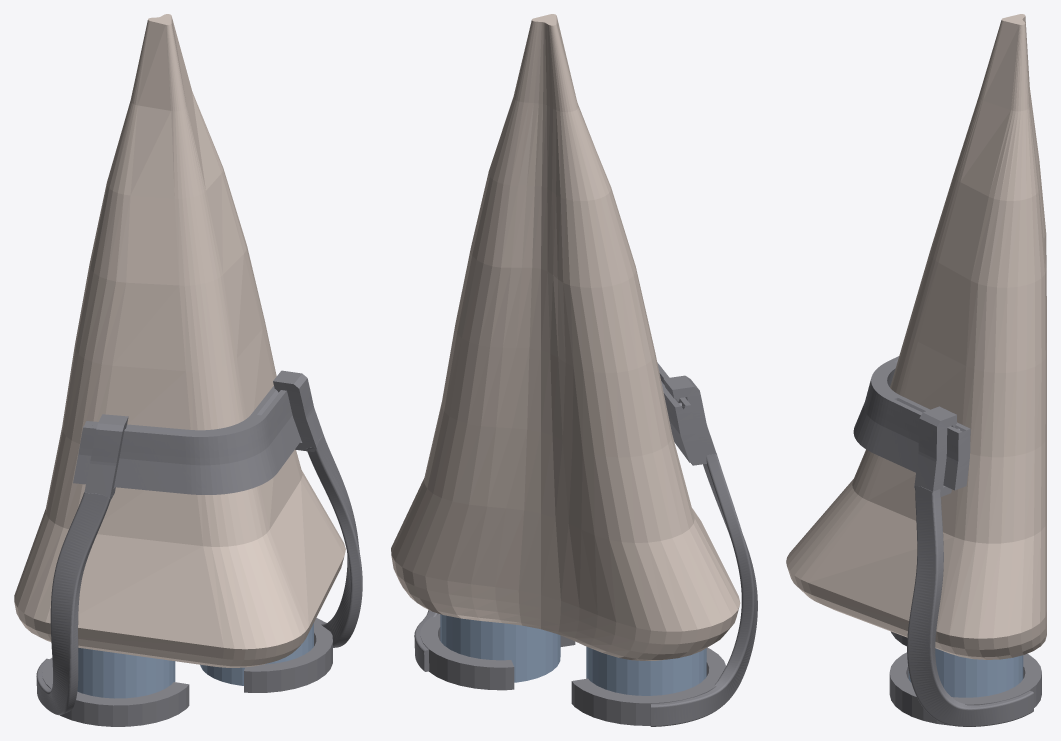
File: candidate_inconspicuous.glb
3 views of the same model, side by side, from view 1: azimuth 30°, elevation 25°; view 2: azimuth 150°, elevation 25°; view 3: azimuth 270°, elevation 25° (orthographic). The views are drawn at different scales.
Parts seen in each view (by area): view 1: body, frame_bridge, frame_leg_left, frame_leg_right, plug_left, plug_right; view 2: body, frame_leg_left, plug_right, plug_left, frame_leg_right, frame_bridge; view 3: body, frame_leg_right, frame_bridge, plug_right.
Boxes of the visible parts, bbox=[...] form: body: bbox=[14, 14, 345, 667]; frame_bridge: bbox=[73, 386, 301, 494]; frame_leg_left: bbox=[36, 414, 189, 726]; frame_leg_right: bbox=[244, 370, 362, 692]; plug_left: bbox=[77, 648, 175, 698]; plug_right: bbox=[200, 623, 313, 685]; body: bbox=[391, 14, 740, 660]; frame_leg_left: bbox=[571, 375, 757, 726]; plug_right: bbox=[440, 614, 560, 682]; plug_left: bbox=[586, 646, 706, 695]; frame_leg_right: bbox=[414, 610, 575, 690]; frame_bridge: bbox=[657, 362, 705, 462]; body: bbox=[786, 14, 1046, 659]; frame_leg_right: bbox=[889, 406, 1041, 726]; frame_bridge: bbox=[853, 356, 970, 490]; plug_right: bbox=[908, 648, 1023, 697].
Size of the model in its own units: 31.69 by 61.8 by 22.75.
